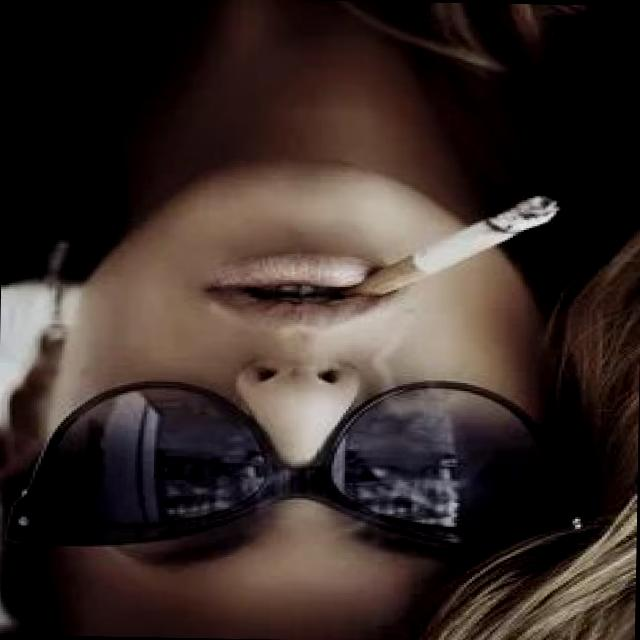smoke: (336, 190, 570, 310)
